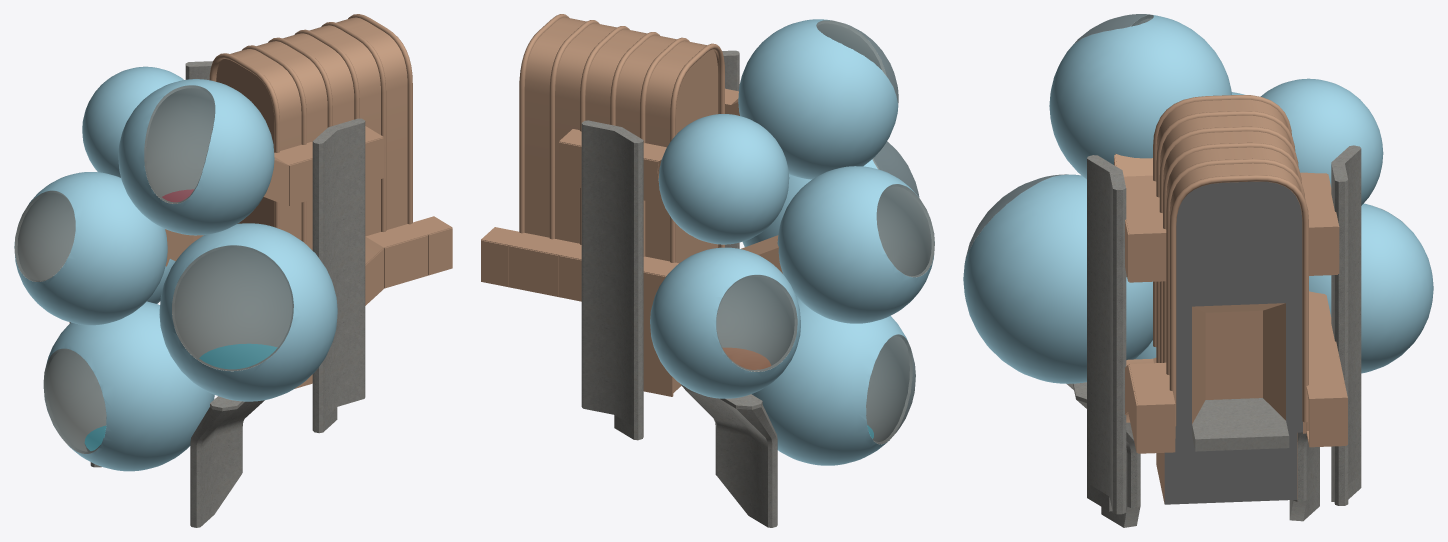
File: ffk.glb
The picture shows the model from 3 angles, left to right: view 1: azimuth 30°, elevation 25°; view 2: azimuth 150°, elevation 25°; view 3: azimuth 270°, elevation 25°; orthographic projection. The views are drawn at different scales.
Parts seen in each view (by area): view 1: Sphere027, Sphere033.001, Box012, FFK, Box019, Shape004, Box014, Cylinder007, Box013; view 2: Sphere027, Box013, FFK, Sphere033.001, Box019, Shape004, Box014, Cylinder007, Box012; view 3: Sphere027, Box014, Box019, Box012, Box013, Shape004, FFK, Sphere033.001.
Boxes of the visible parts, left/top/right/bottom form: Sphere027: left=14, top=66, right=337, bottom=471; Sphere033.001: left=14, top=85, right=293, bottom=453; Box012: left=190, top=118, right=365, bottom=527; FFK: left=215, top=17, right=407, bottom=388; Box019: left=165, top=126, right=452, bottom=305; Shape004: left=209, top=14, right=412, bottom=244; Box014: left=216, top=59, right=274, bottom=226; Cylinder007: left=85, top=189, right=277, bottom=451; Box013: left=69, top=61, right=212, bottom=467; Sphere027: left=650, top=19, right=934, bottom=465; Box013: left=581, top=120, right=777, bottom=527; FFK: left=524, top=17, right=719, bottom=396; Sphere033.001: left=716, top=20, right=934, bottom=444; Box019: left=481, top=88, right=782, bottom=315; Shape004: left=519, top=14, right=724, bottom=262; Box014: left=673, top=49, right=717, bottom=392; Cylinder007: left=723, top=348, right=873, bottom=438; Box012: left=722, top=50, right=739, bottom=248; Sphere027: left=963, top=15, right=1433, bottom=383; Box014: left=1164, top=181, right=1302, bottom=504; Box019: left=1114, top=153, right=1347, bottom=453; Box012: left=1066, top=155, right=1140, bottom=527; Box013: left=1289, top=145, right=1361, bottom=521; Shape004: left=1153, top=95, right=1308, bottom=426; FFK: left=1156, top=99, right=1305, bottom=503; Sphere033.001: left=965, top=14, right=1400, bottom=261.
Size of the model in its own units: 15.14 by 15.71 by 13.41.
Materials: 11 (1 with a texture image).
